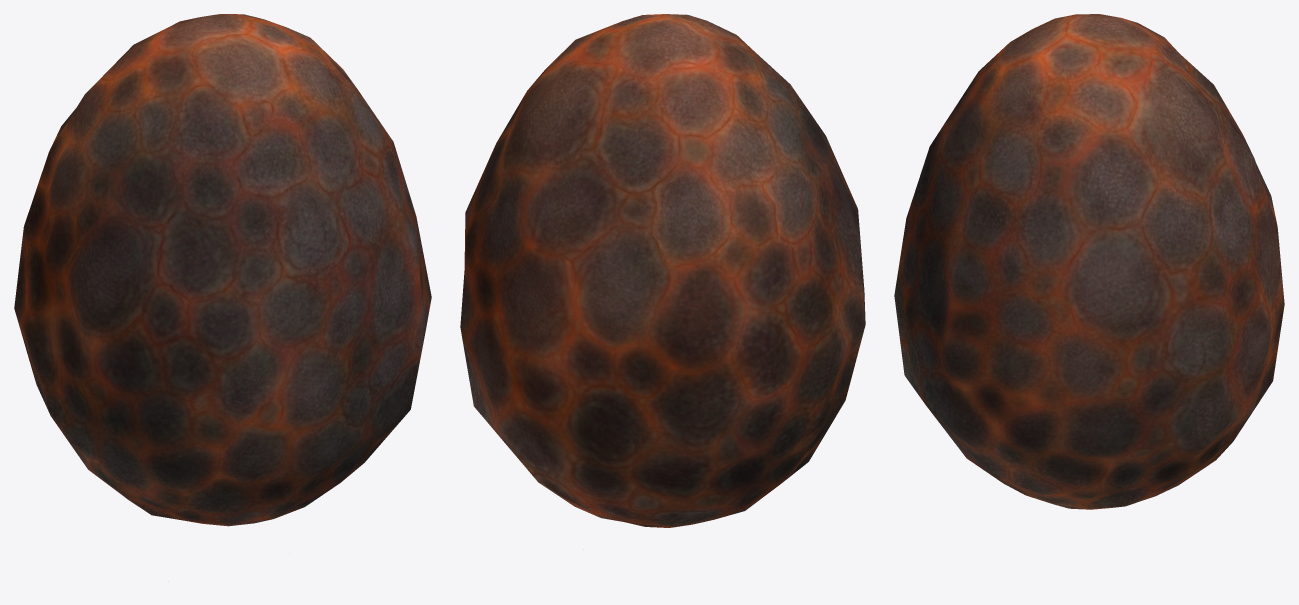
Rendered from SK_GastariasEgg@Normal.FBX.
3 renders of one model, left to right at view 1: azimuth 30°, elevation 25°; view 2: azimuth 150°, elevation 25°; view 3: azimuth 270°, elevation 25°, orthographic. The views are drawn at different scales.
Parts seen in each view (by area): view 1: SM_GastariasEgg; view 2: SM_GastariasEgg; view 3: SM_GastariasEgg.
Boxes of the visible parts, x1,y1,x2,y2 form: SM_GastariasEgg: [14, 14, 431, 526]; SM_GastariasEgg: [460, 14, 865, 527]; SM_GastariasEgg: [894, 14, 1284, 509].
Bounding box in the file's own units: 70.41 × 101 × 68.7.
